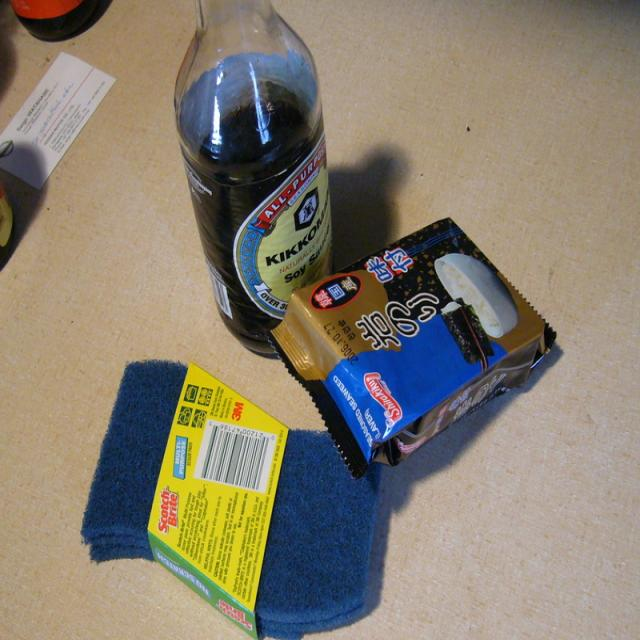packet- bottle: (272, 219, 555, 476)
